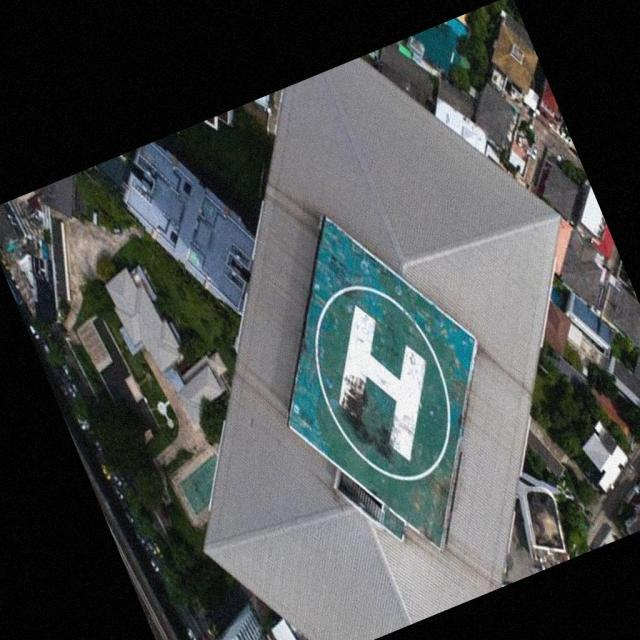helipad: (310, 282, 454, 486)
